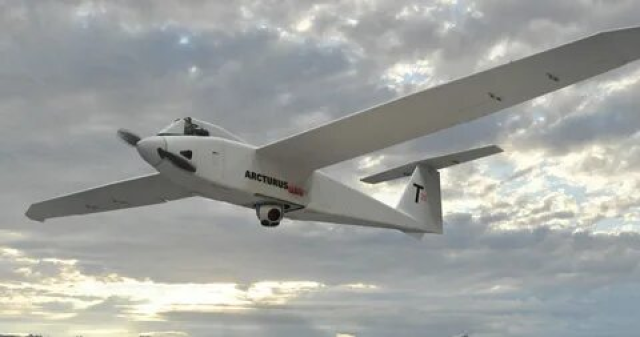military drone: (23, 26, 640, 240)
